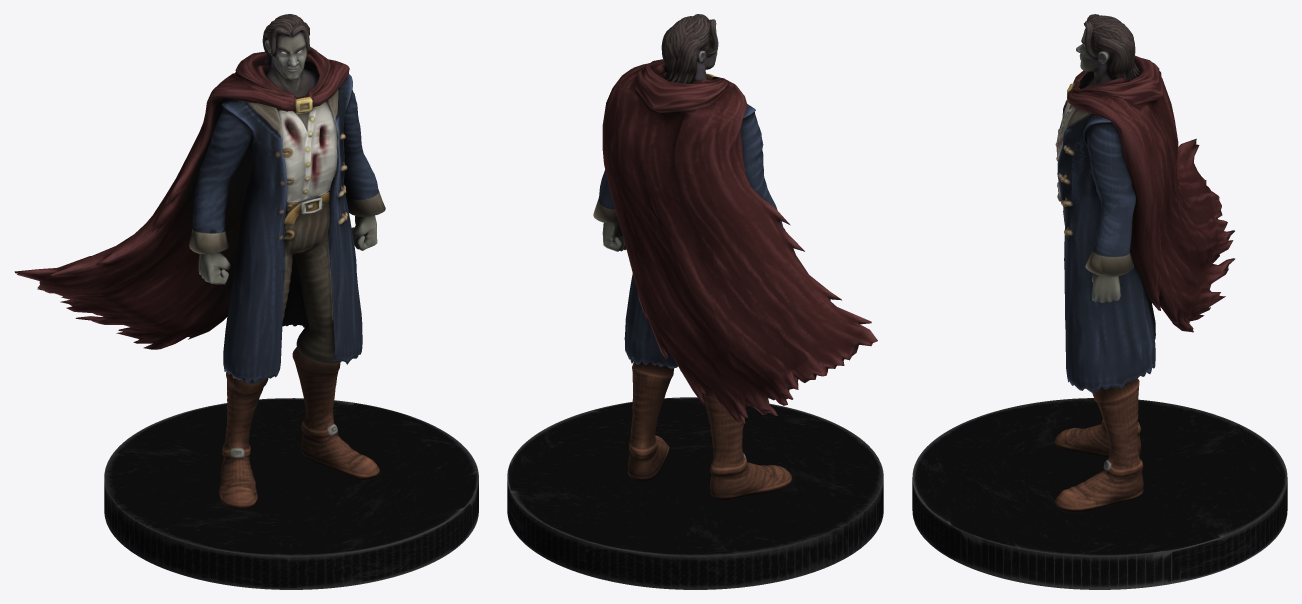
Rendered from MZ4250 - Revenant.glb.
The picture shows the model from 3 angles, left to right: view 1: azimuth 30°, elevation 25°; view 2: azimuth 150°, elevation 25°; view 3: azimuth 270°, elevation 25°; orthographic projection.
Visible parts, largest first — view 1: base_low.001, body_low.001, cape_low.001; view 2: cape_low.001, base_low.001, body_low.001; view 3: base_low.001, body_low.001, cape_low.001.
Part boxes in pixels (x1,y1,x2,y2): base_low.001: (104, 398, 478, 589); body_low.001: (189, 14, 385, 509); cape_low.001: (14, 46, 349, 349); cape_low.001: (602, 59, 877, 423); base_low.001: (507, 397, 883, 589); body_low.001: (593, 14, 791, 499); base_low.001: (912, 398, 1287, 589); body_low.001: (1055, 14, 1155, 511); cape_low.001: (1067, 55, 1234, 332).
Bounding box in the file's own units: 5.31 × 6.37 × 4.4.
1 material, 1 textured.
